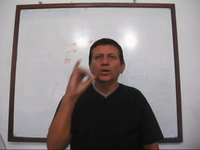oi: (67, 57, 96, 99)
